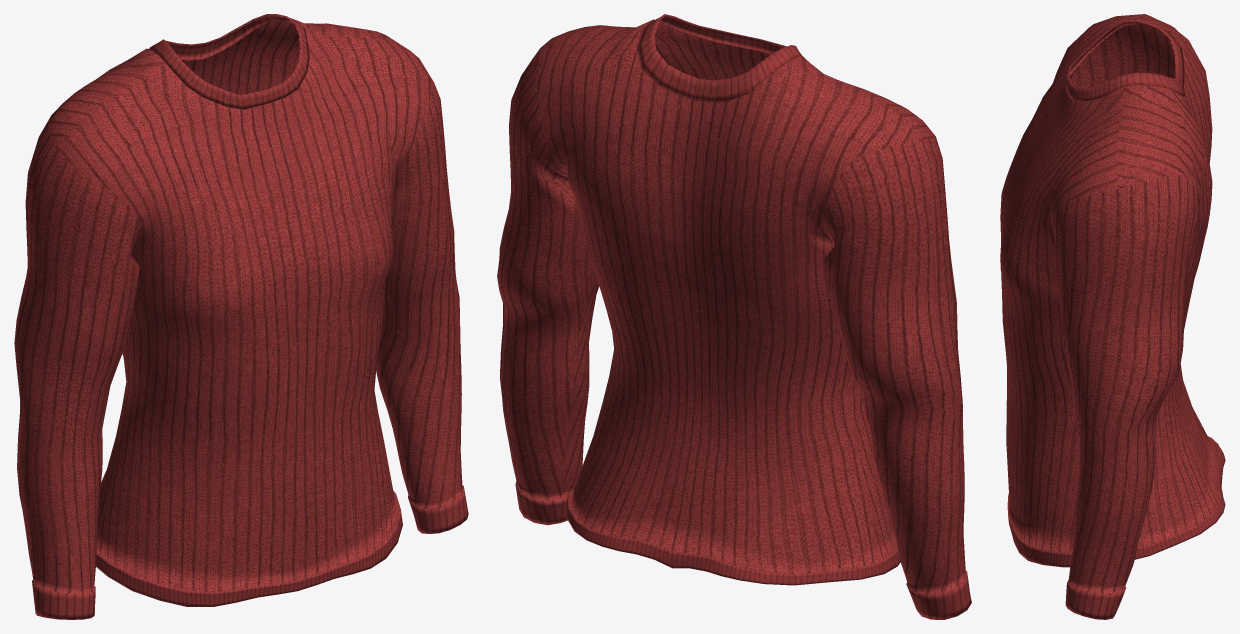
File: top_sweater.gltf
3 renders of one model, left to right at view 1: azimuth 30°, elevation 25°; view 2: azimuth 150°, elevation 25°; view 3: azimuth 270°, elevation 25°, orthographic. The views are drawn at different scales.
Parts seen in each view (by area): view 1: top_sweater; view 2: top_sweater; view 3: top_sweater.
Part boxes in pixels (x1,y1,x2,y2): top_sweater: (14, 14, 468, 619); top_sweater: (497, 14, 971, 619); top_sweater: (1000, 14, 1225, 619).
Bounding box in the file's own units: 0.5023 × 0.581 × 0.245.
Materials: 1 (1 with a texture image).
